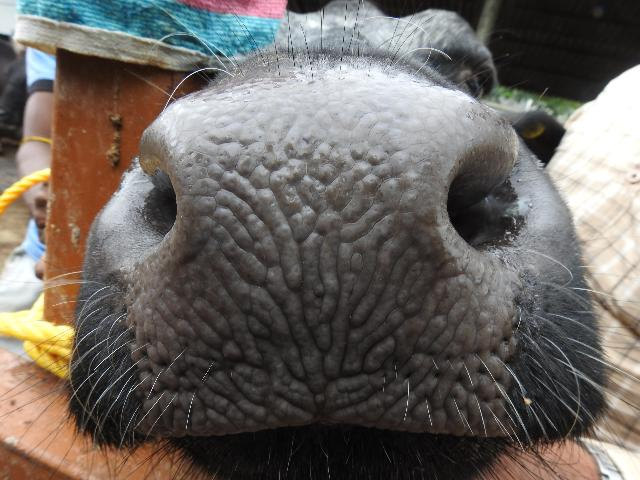Muzzle: (193, 99, 427, 430)
